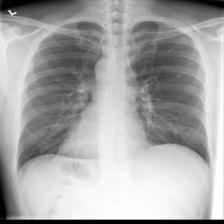normal: (12, 15, 217, 188)
